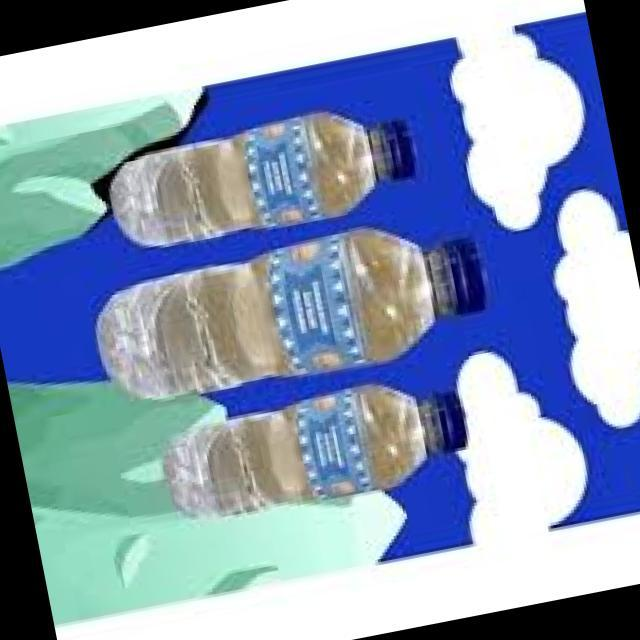good: (80, 208, 507, 426), (105, 89, 452, 270), (147, 366, 482, 536)
